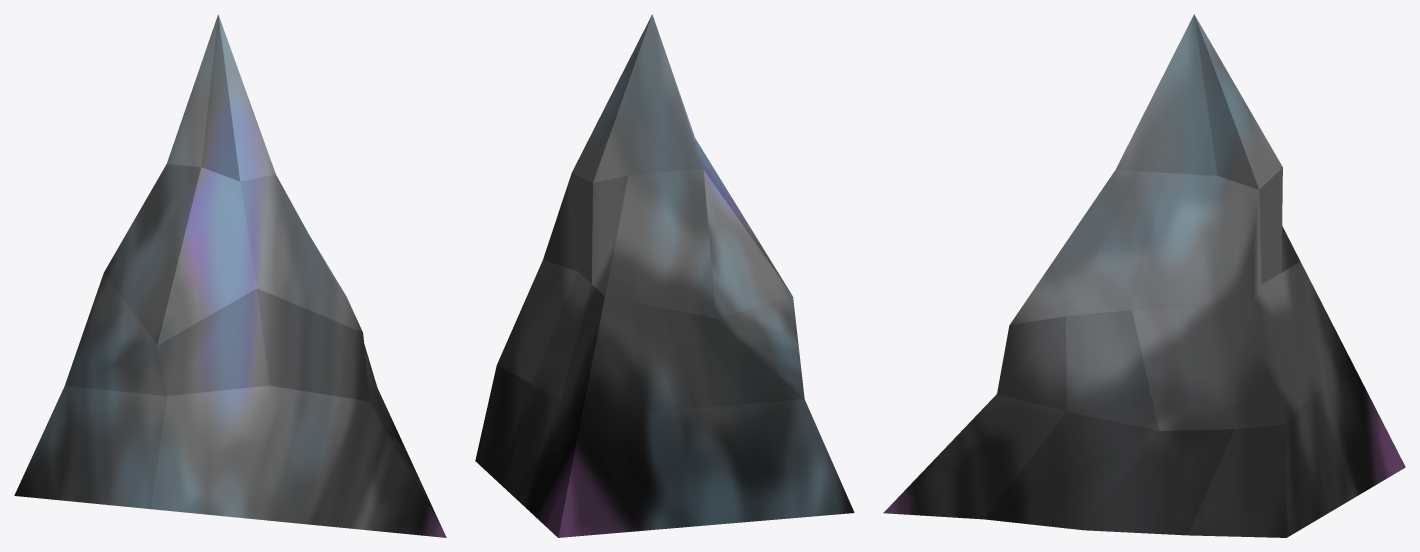
Rendered from Mountain4.fbx.
The picture shows the model from 3 angles, left to right: view 1: azimuth 30°, elevation 25°; view 2: azimuth 150°, elevation 25°; view 3: azimuth 270°, elevation 25°; orthographic projection. The views are drawn at different scales.
Parts seen in each view (by area): view 1: Mountain4; view 2: Mountain4; view 3: Mountain4.
Boxes of the visible parts, x1,y1,x2,y2 form: Mountain4: (14,14,446,537); Mountain4: (475,14,854,537); Mountain4: (883,14,1405,537).
Bounding box in the file's own units: 1843 × 2345 × 2408.
